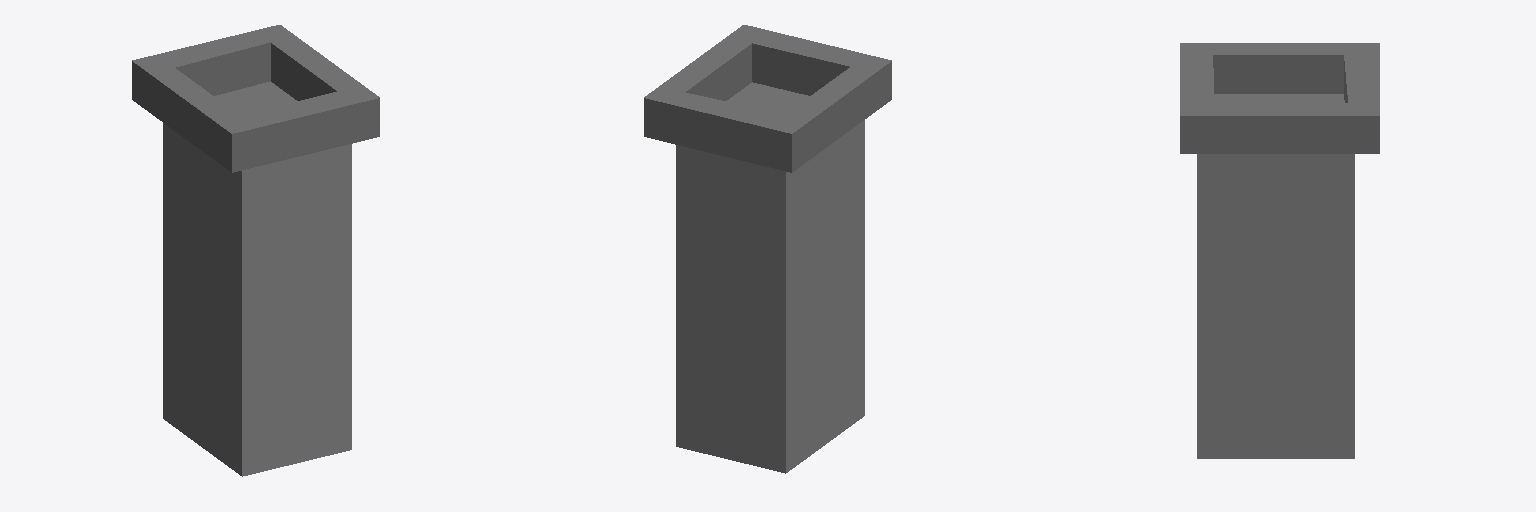
Rendered from Chimney.obj.
3 renders of one model, left to right at view 1: azimuth 30°, elevation 25°; view 2: azimuth 150°, elevation 25°; view 3: azimuth 270°, elevation 25°, orthographic.
Parts seen in each view (by area): view 1: Chimney; view 2: Chimney; view 3: Chimney.
Part boxes in pixels (x1,y1,x2,y2): Chimney: (132,25,379,476); Chimney: (644,25,891,473); Chimney: (1180,43,1379,458).
Bounding box in the file's own units: 0.9906 × 2.25 × 1.16.